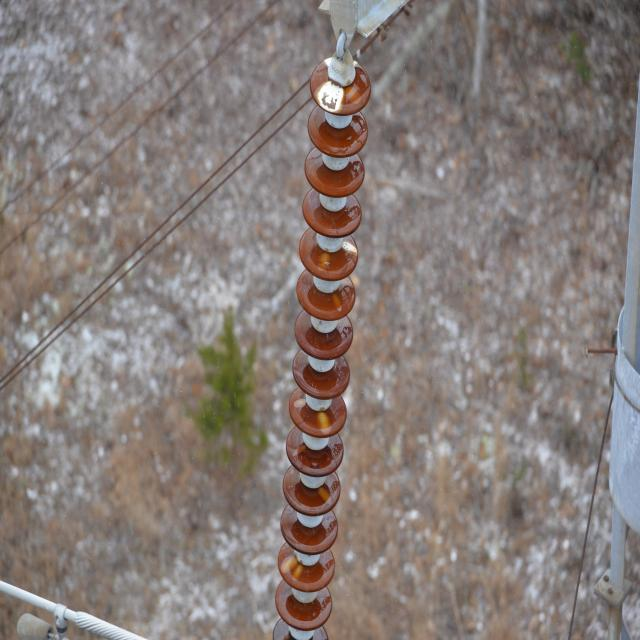insulator: (271, 56, 370, 640)
